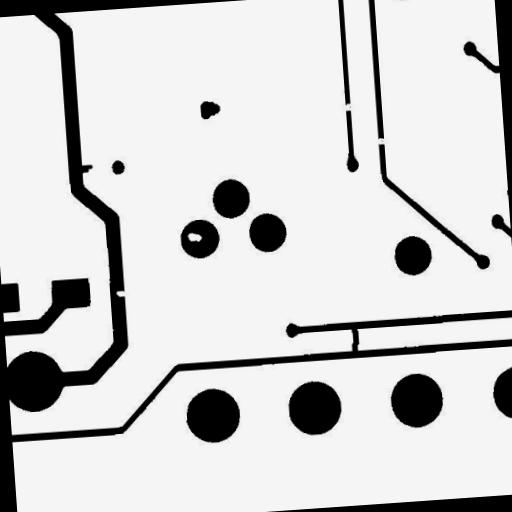copper: (192, 92, 228, 128)
mousebite: (108, 282, 134, 305)
open: (331, 94, 362, 120), (368, 130, 394, 152)
pin-hole: (179, 224, 210, 250)
short: (342, 317, 368, 362)
spur: (70, 156, 100, 182)
